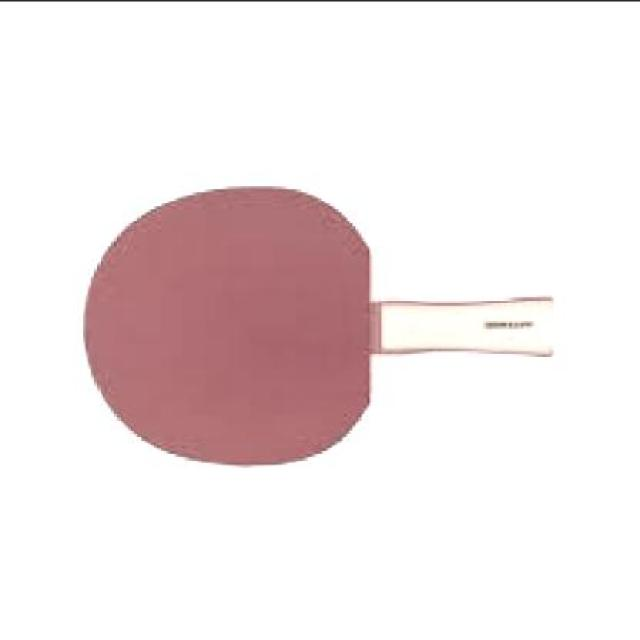table_tennis_racket: (78, 179, 390, 472)
